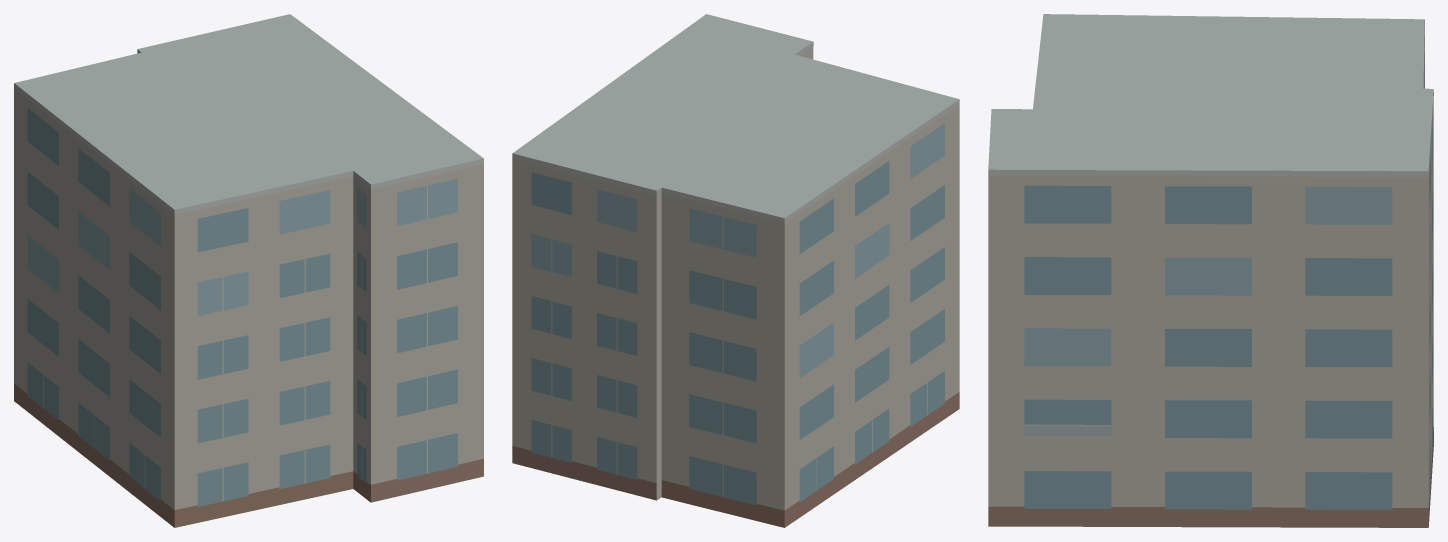
File: survey-upis-32981625.glb
3 renders of one model, left to right at view 1: azimuth 30°, elevation 25°; view 2: azimuth 150°, elevation 25°; view 3: azimuth 270°, elevation 25°, orthographic. The views are drawn at different scales.
Parts seen in each view (by area): view 1: survey-upis-32981625.tmp; view 2: survey-upis-32981625.tmp; view 3: survey-upis-32981625.tmp.
Part boxes in pixels (box(x1,y1,x2,y2)): survey-upis-32981625.tmp: box(14, 14, 483, 527); survey-upis-32981625.tmp: box(512, 14, 959, 527); survey-upis-32981625.tmp: box(988, 14, 1433, 527).
Bounding box in the file's own units: 13.82 × 14.6 × 16.54.
